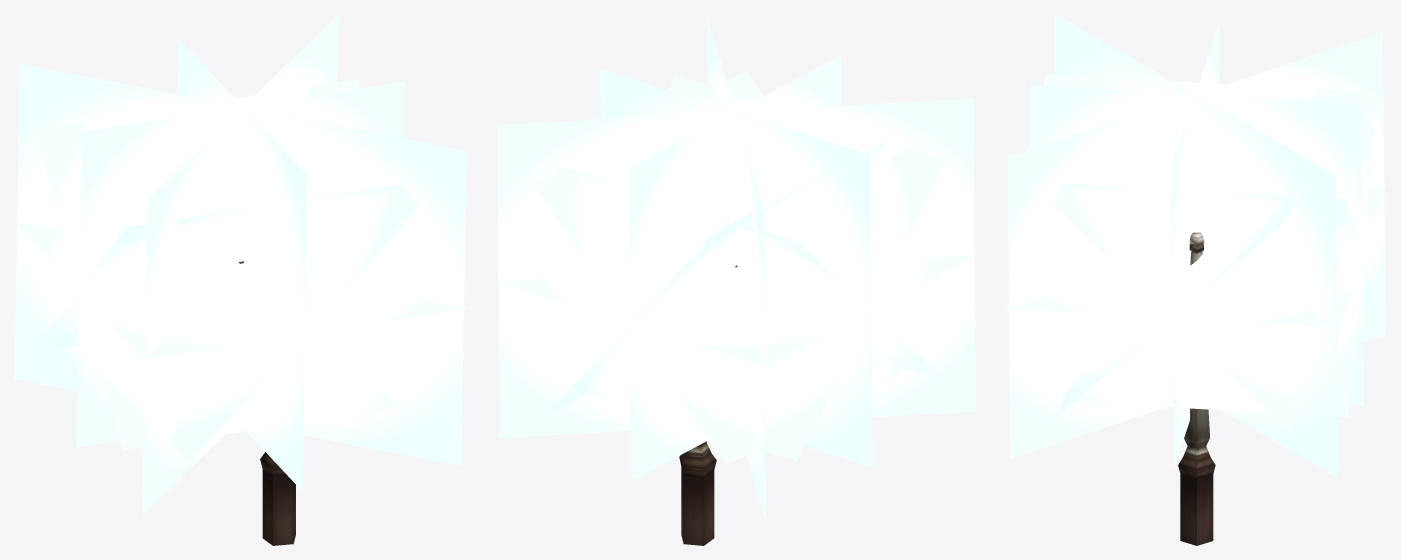
File: a_SWTlamp01.glb
3 renders of one model, left to right at view 1: azimuth 30°, elevation 25°; view 2: azimuth 150°, elevation 25°; view 3: azimuth 270°, elevation 25°, orthographic. The views are drawn at different scales.
Visible parts, largest first — view 1: a_SWTlamp01; view 2: a_SWTlamp01; view 3: a_SWTlamp01.
Boxes of the visible parts, bbox=[...] form: a_SWTlamp01: bbox=[14, 14, 466, 545]; a_SWTlamp01: bbox=[496, 14, 977, 545]; a_SWTlamp01: bbox=[1006, 14, 1386, 545].
Bounding box in the file's own units: 5.2 × 6.47 × 5.2.
Materials: 4 (4 with a texture image).
